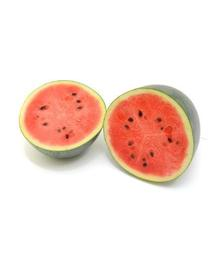watermelon: (103, 82, 199, 185), (13, 79, 106, 160)
